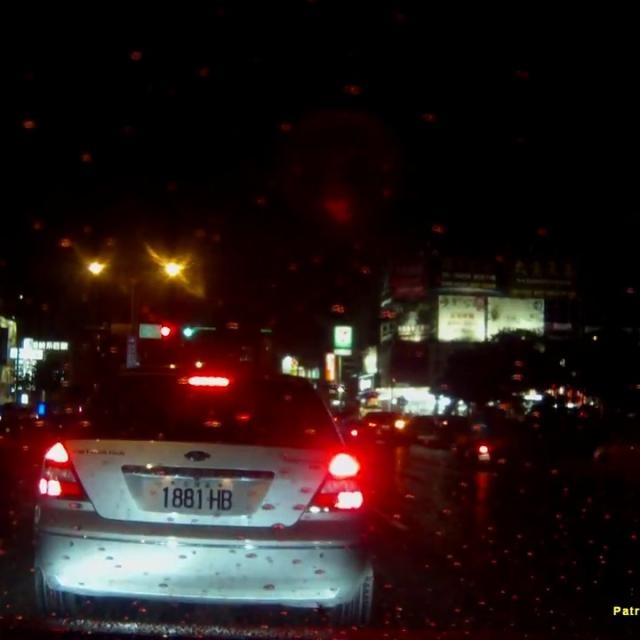Car: (27, 366, 374, 628), (361, 411, 403, 441)
